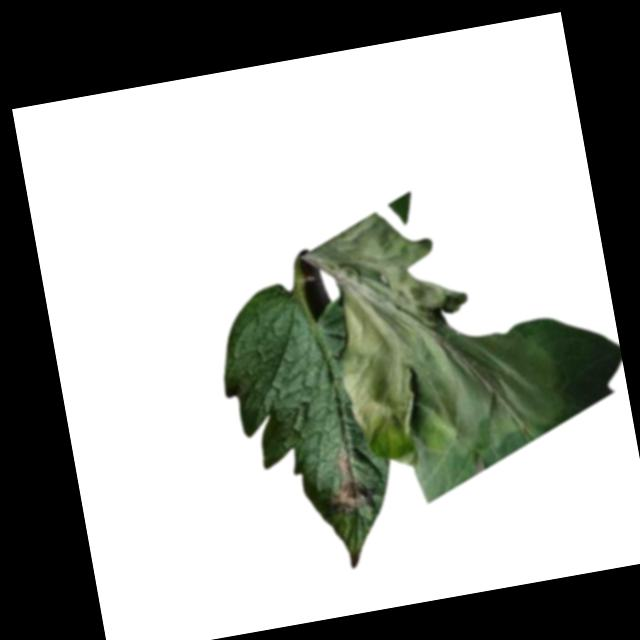Late_blight: (299, 182, 597, 478), (330, 452, 373, 516)
